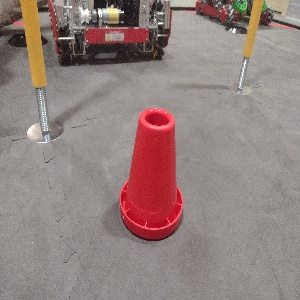Red_1: (119, 106, 183, 240)
